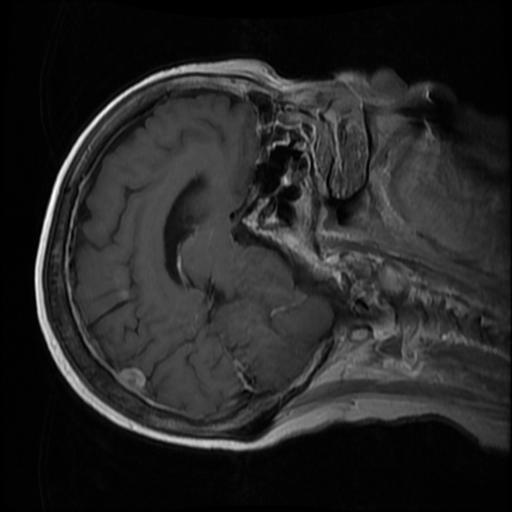meningioma: (116, 367, 144, 390)
